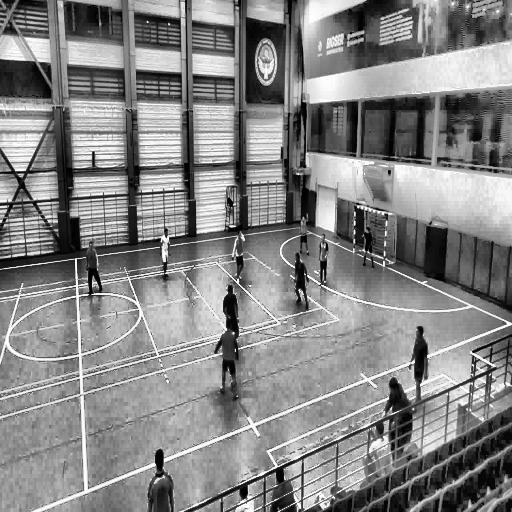ball: (231, 380, 234, 390)
player: (215, 316, 240, 400), (148, 448, 176, 512), (409, 328, 428, 400), (84, 240, 103, 294), (292, 252, 309, 312), (233, 229, 245, 283), (160, 227, 173, 276), (361, 224, 374, 267), (319, 234, 329, 283), (298, 214, 308, 256)
